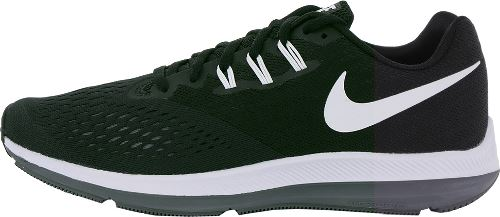nike: (321, 57, 485, 137)
